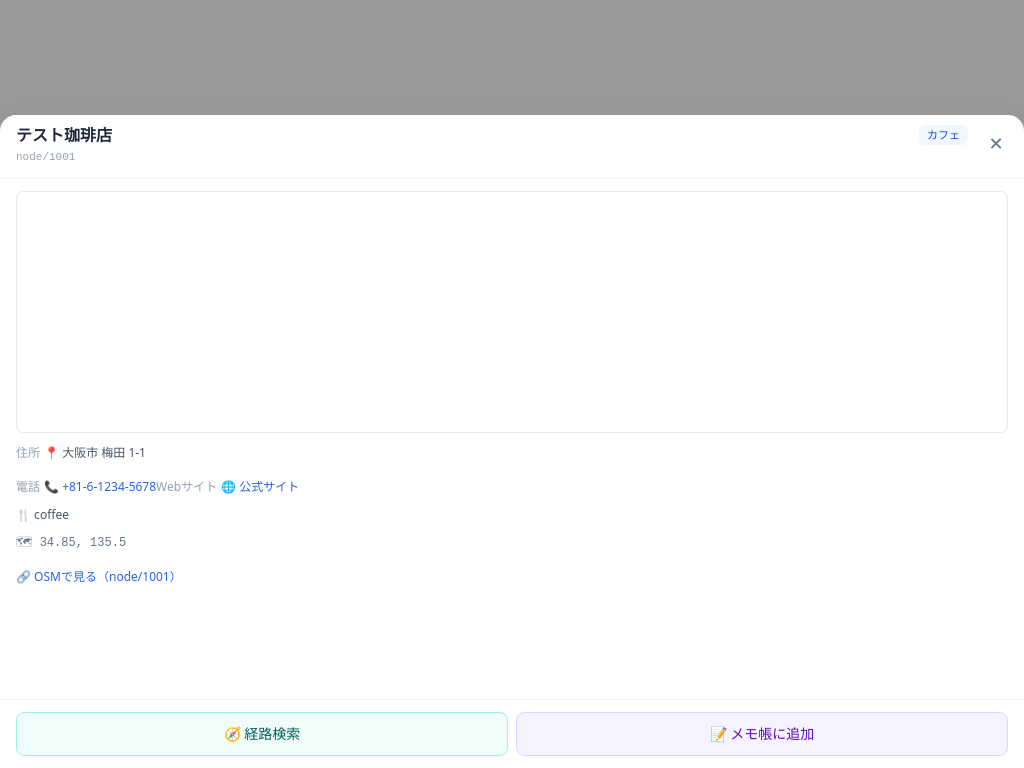
Test case: まちメモ帳ボタン（第2ピース・フッター） › 押すと追加され「メモ帳から削除」に変わり、もう一度押すと元に戻る（toggle）
This screenshot has width=1024, height=768.
Expected: the button "メモ帳から削除" is not shown
Click the button "📝 メモ帳に追加" at [762, 734], box [516,712,1008,756]
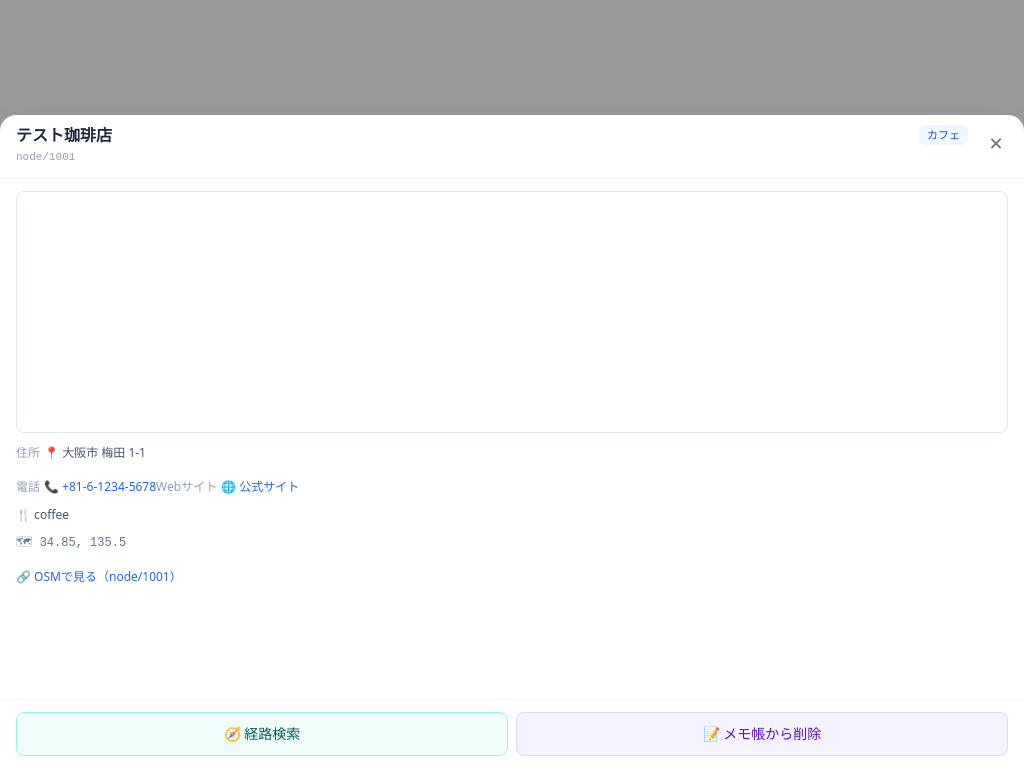
Expected: the button "📝 メモ帳から削除" is shown
Expected: the button "メモ帳に追加" is gone
// もう一度押すとごみ箱へ移動され（論理削除）「メモ帳に追加」に戻る
Click the button "📝 メモ帳から削除" at [762, 734], box [516,712,1008,756]
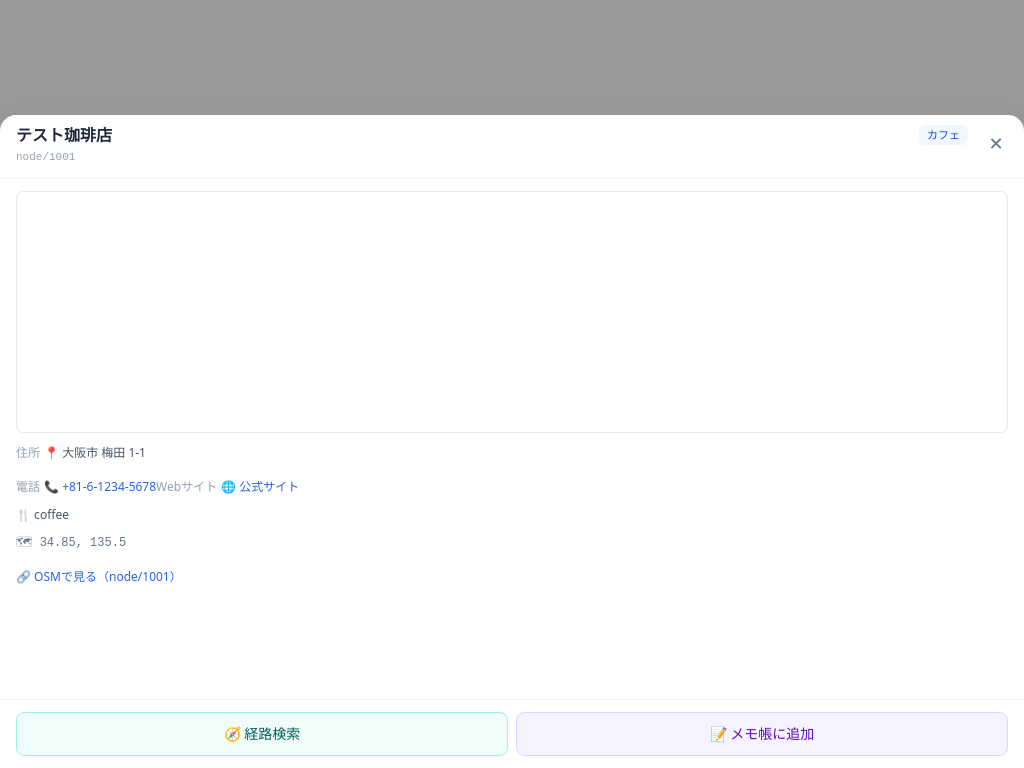
Expected: the button "📝 メモ帳に追加" is shown, [516,712,1008,756]
